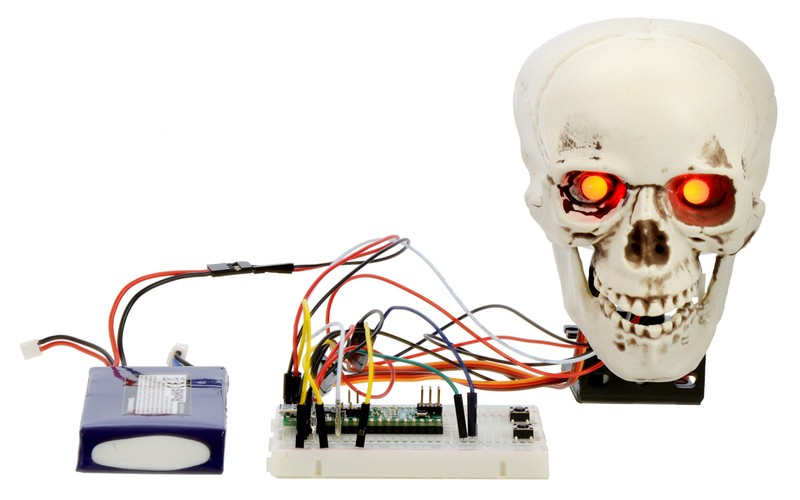Regulator: (262, 370, 445, 451)
